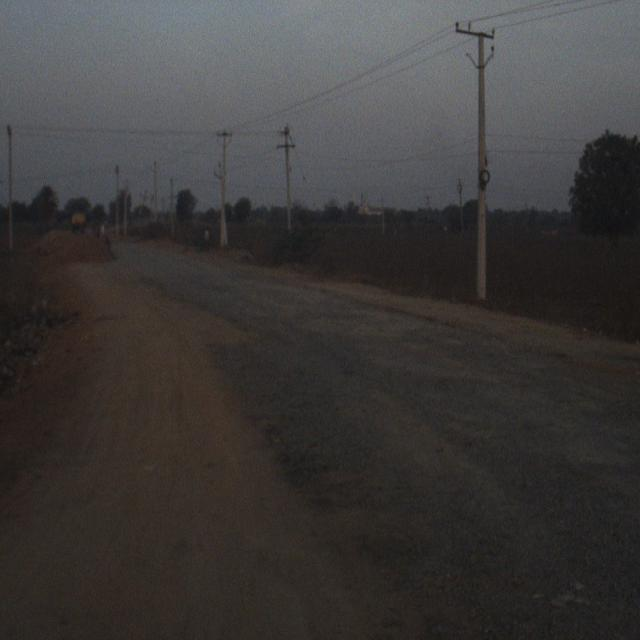pothole: (246, 414, 366, 511), (497, 541, 589, 640), (539, 390, 625, 487), (275, 294, 381, 364), (388, 306, 468, 378), (196, 292, 243, 360)
